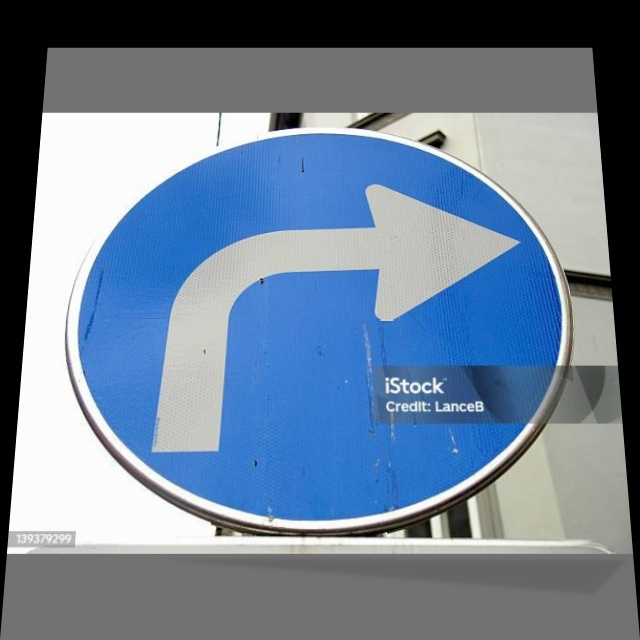Compulsory_Turn_Right_Ahead: (66, 129, 568, 512)
